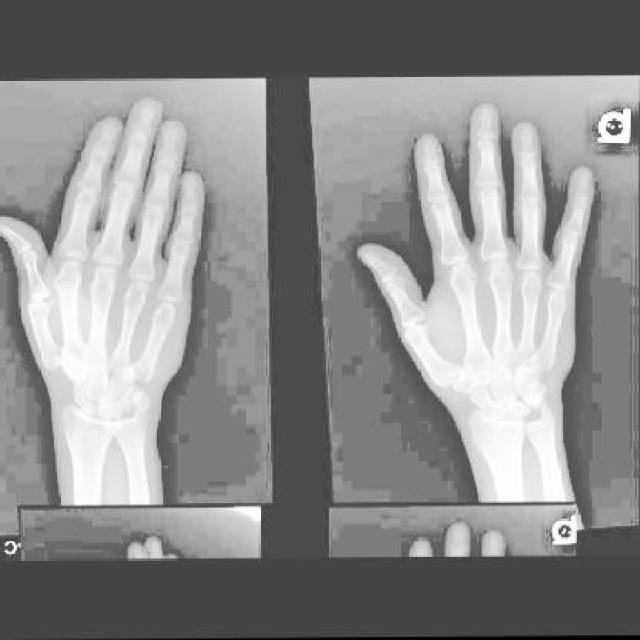Fracture: (440, 360, 465, 388), (52, 342, 71, 367)
